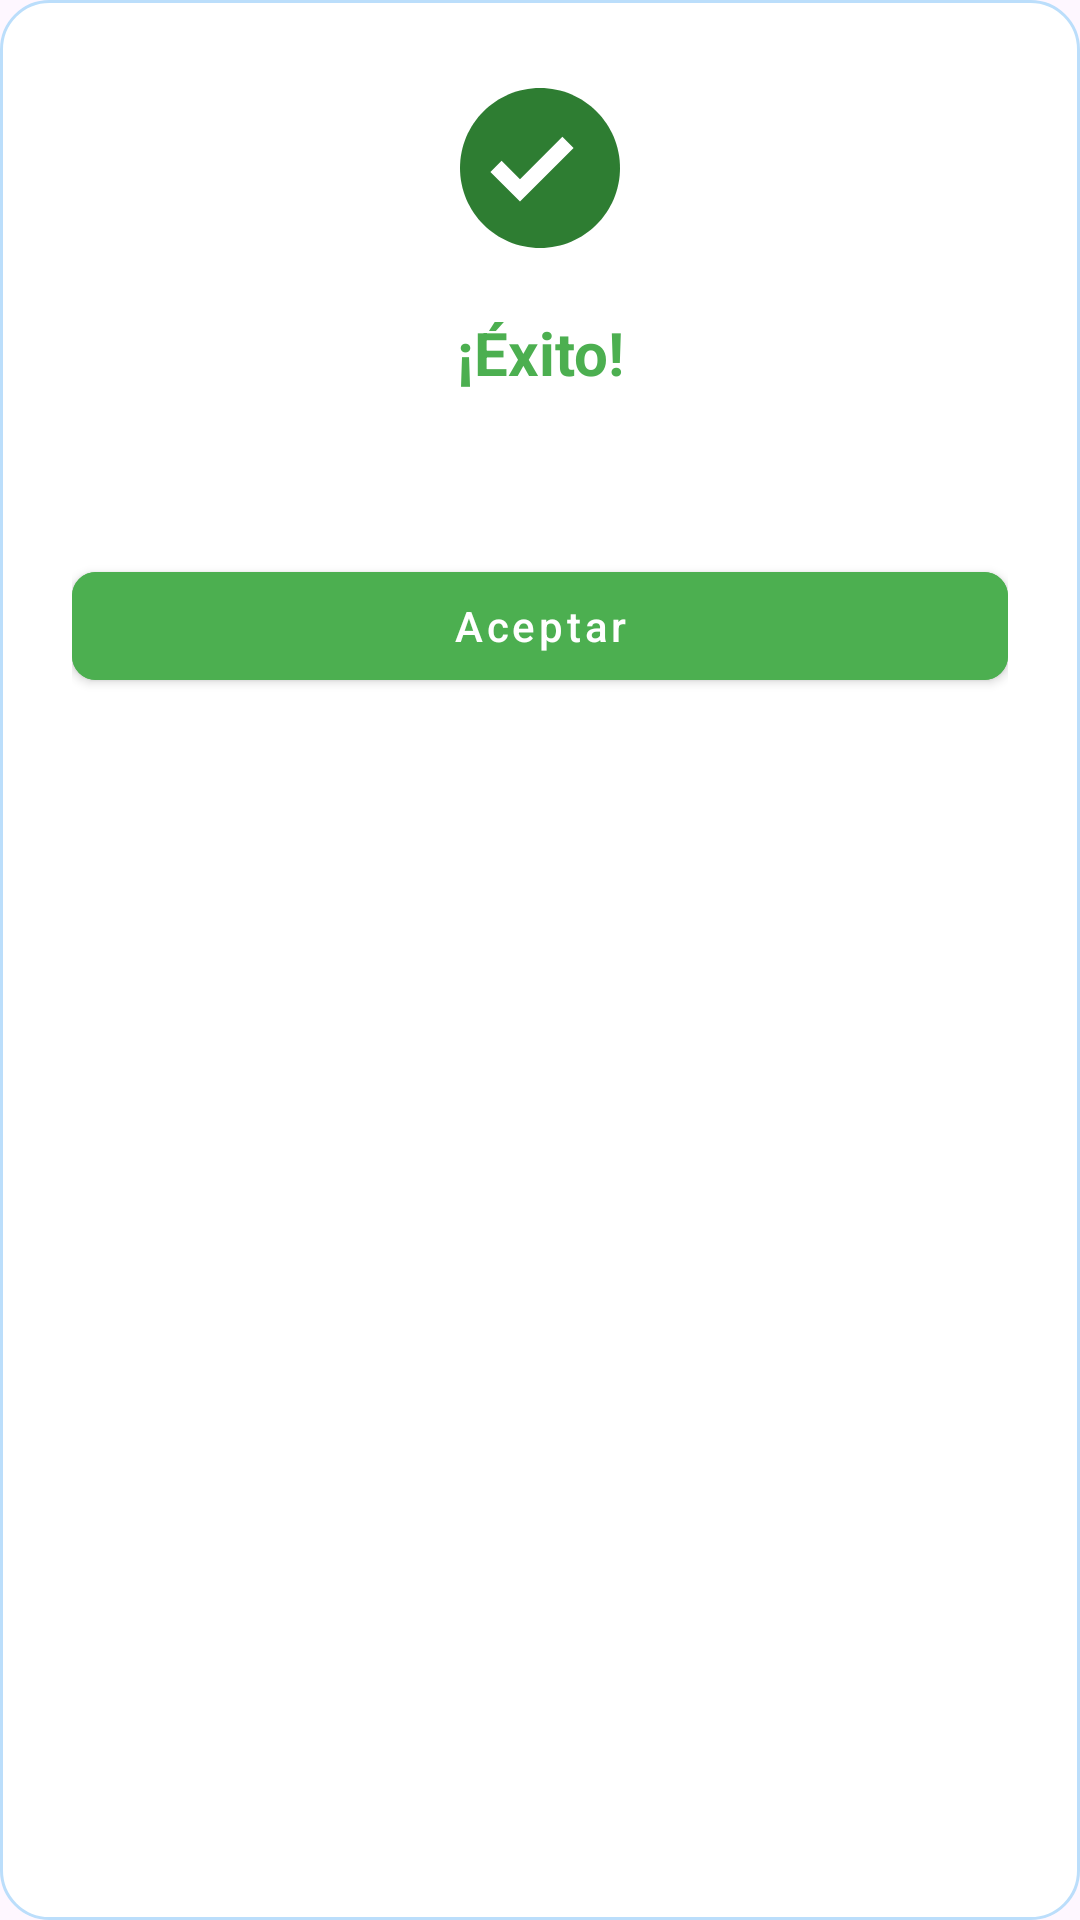

Screen size 1080x1920. Icon name, then its center in pixels as (x,y):
success: (540,168)
